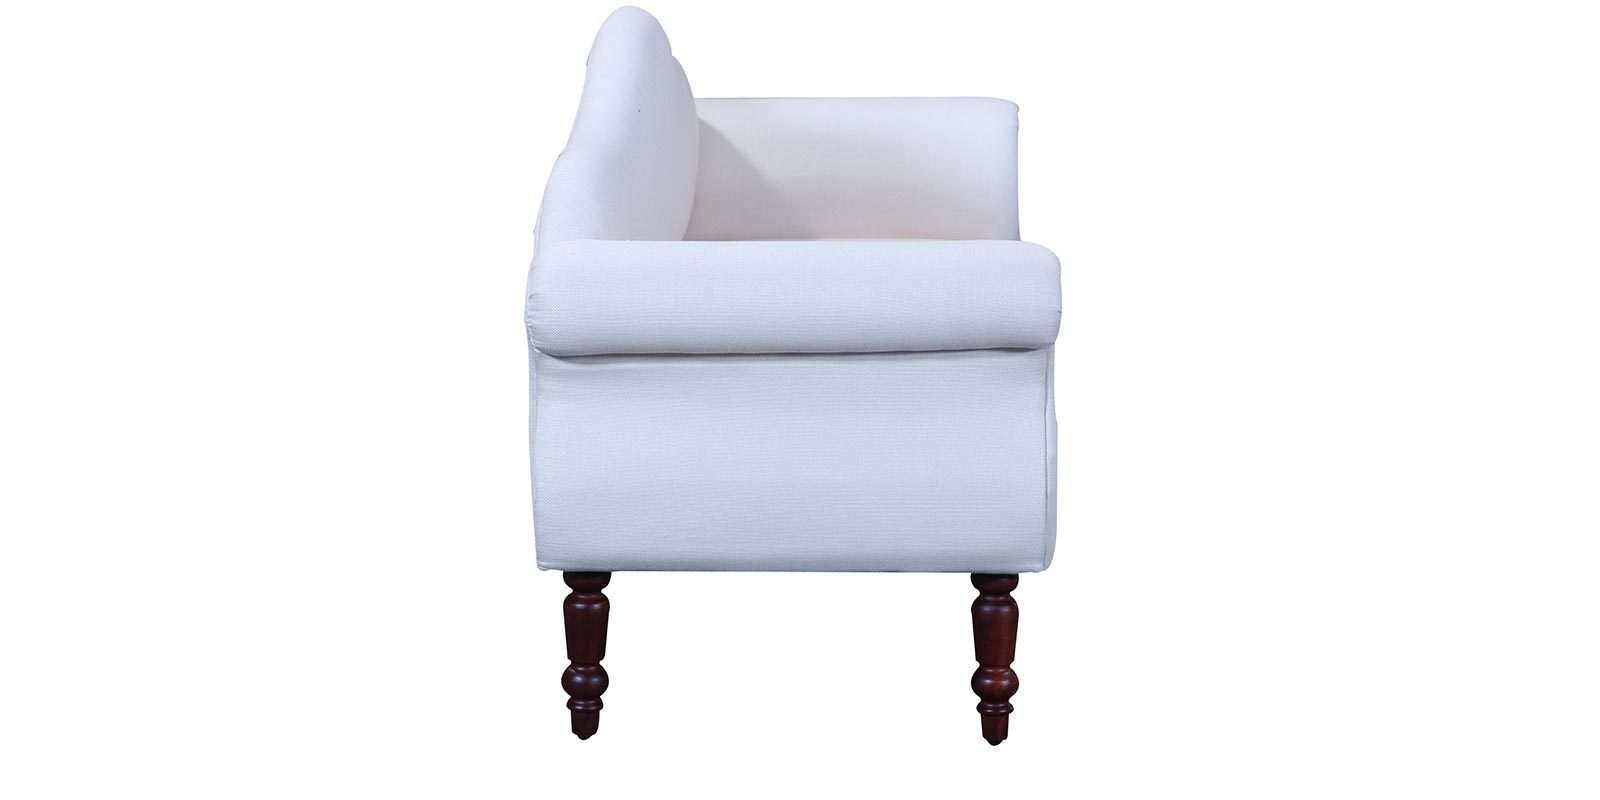Harleston Three Seater Sofa in Honey Oak Finish by Amberville: (493, 3, 1072, 777)
